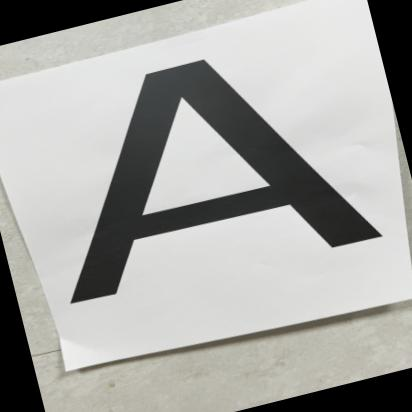seat: (0, 16, 412, 344)
